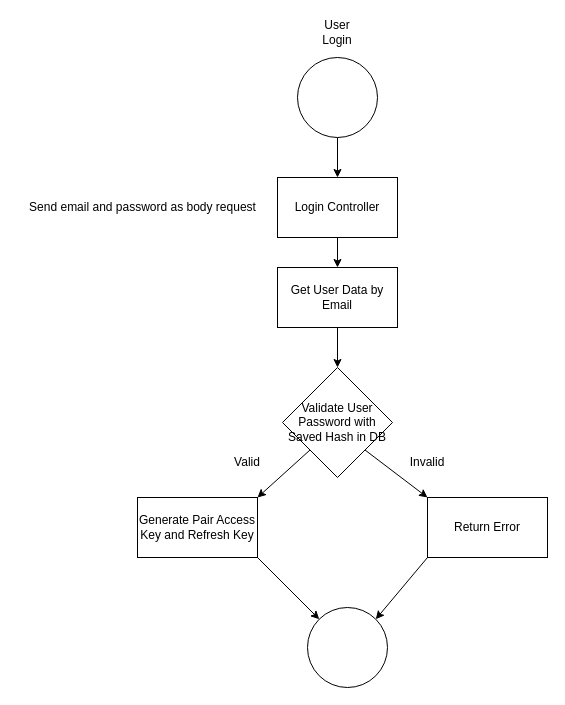
Some shapes in this 565 by 705 pixel diagram are drawn without their labels. Here are the shapes that lost their labels. From the top down, the centre of each, then its label:
point (337, 97): Start
point (347, 647): End
